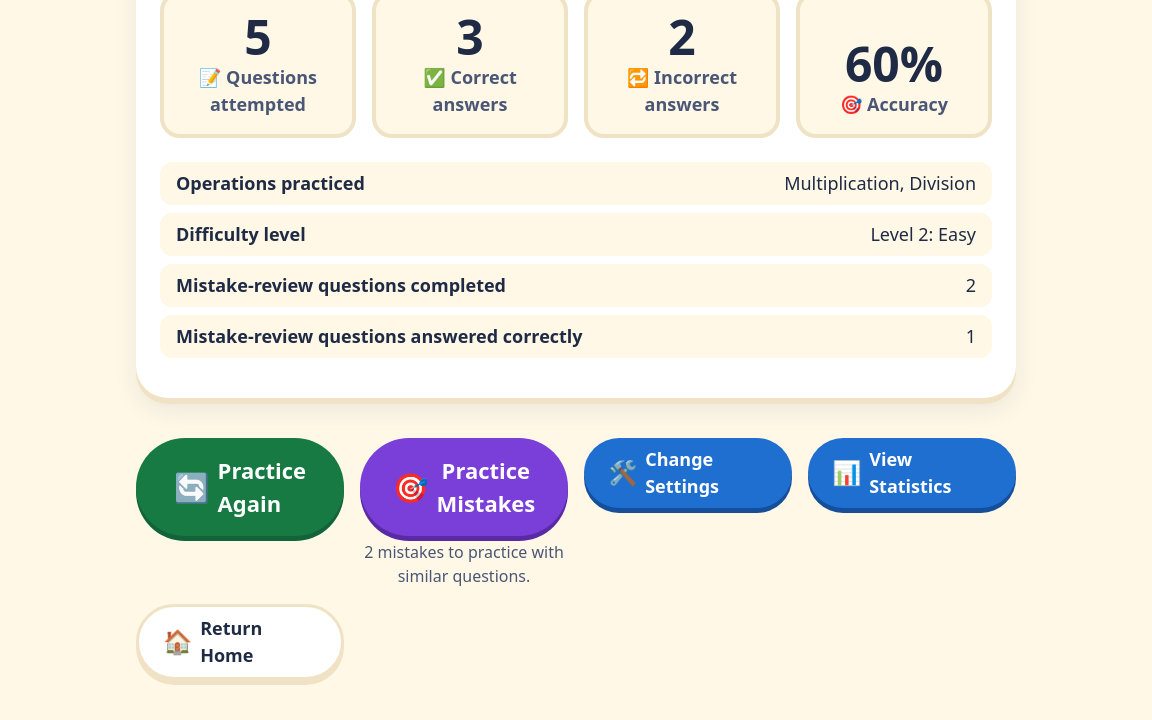
Test: SessionSummaryPage › Practice Mistakes starts a review of similar questions
(page scrolled)
Click the button "🎯 Practice Mistakes". click: (464, 487)
box: [360,438,568,536]
(page scrolled)
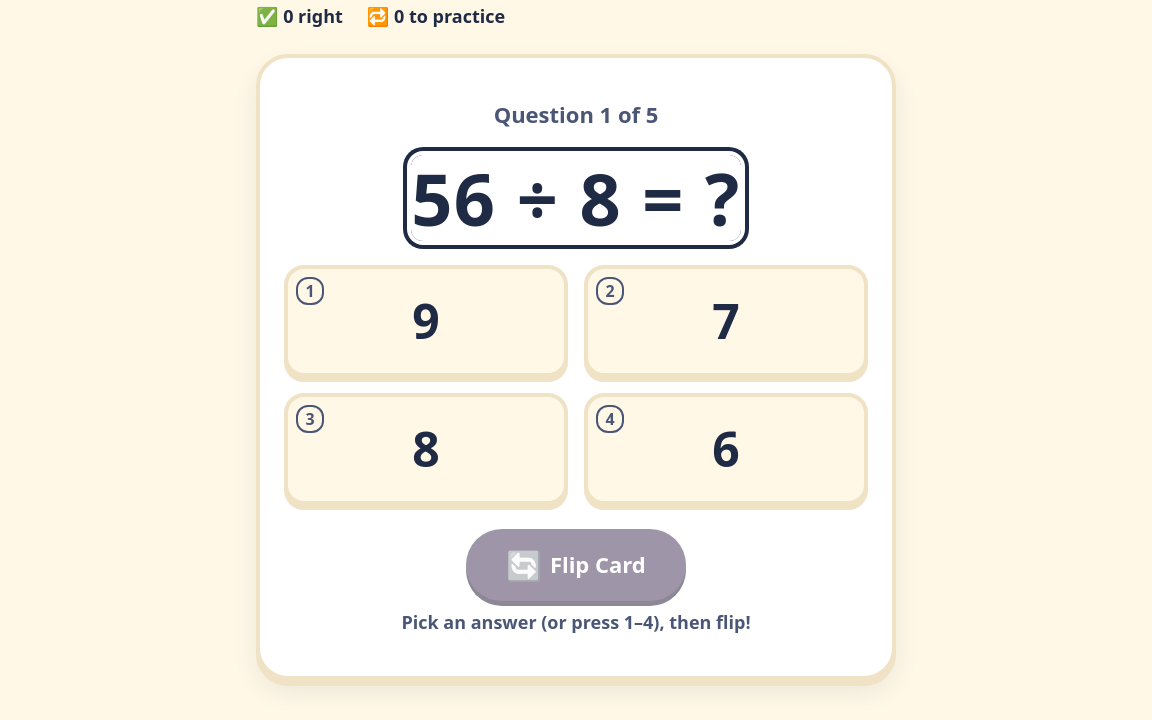
expect the text "Question 1 of 5" is shown: met, box [494,98,658,131]
